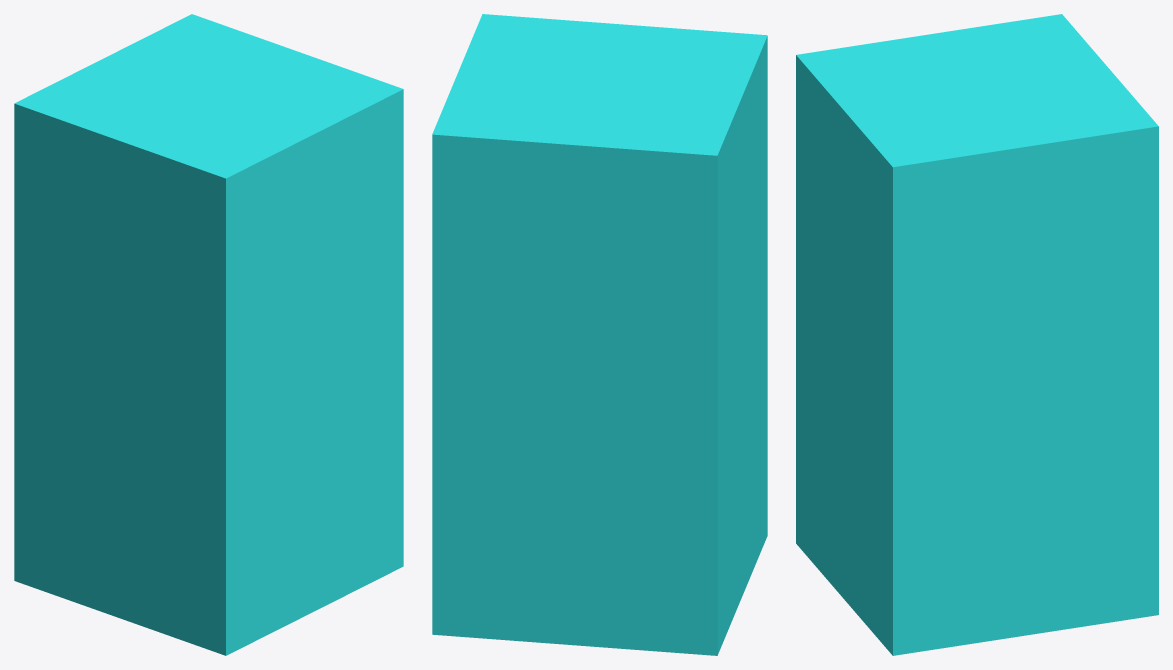
3 renders of one model, left to right at view 1: azimuth 30°, elevation 25°; view 2: azimuth 150°, elevation 25°; view 3: azimuth 270°, elevation 25°, orthographic. The views are drawn at different scales.
Visible parts, largest first — view 1: 6????E1048; view 2: 6????E1048; view 3: 6????E1048.
Boxes of the visible parts, box(x1,y1,x2,y2) form: 6????E1048: box(14, 14, 403, 655); 6????E1048: box(432, 14, 767, 655); 6????E1048: box(796, 14, 1158, 655).
Bounding box in the file's own units: 2.69 × 4 × 2.69.
